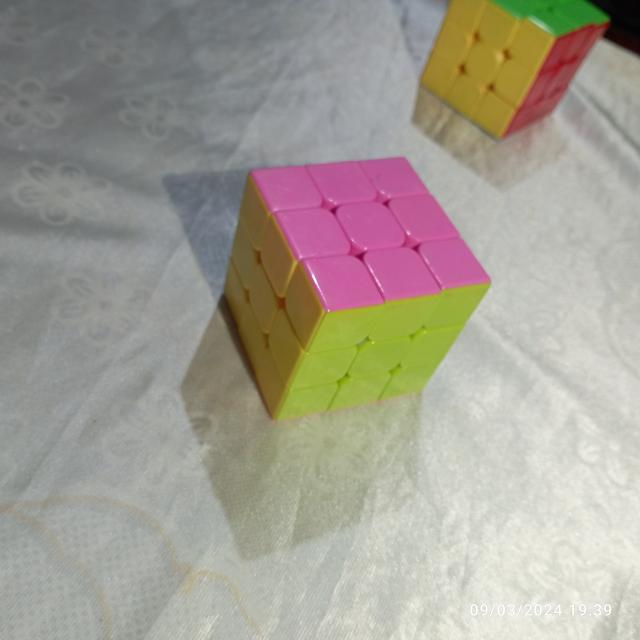Rub: (216, 151, 494, 426), (414, 0, 614, 141)
